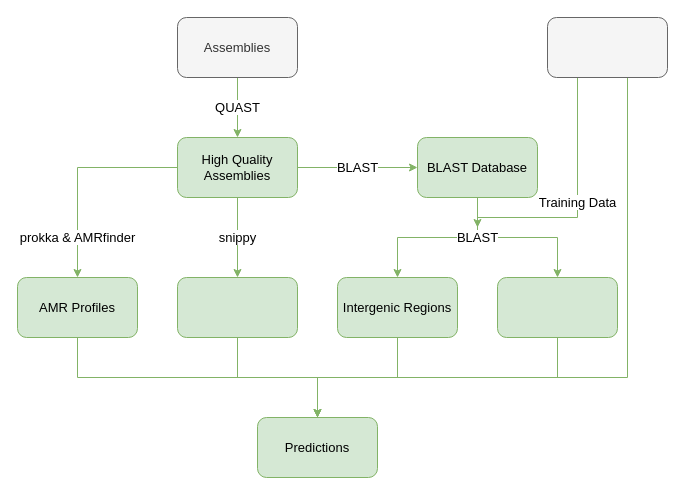
This 685x495 diagram has some shape labels left out. Here are the shapes that lost their labels. From the top down, the centre of each, then its label:
At (607,47): "Models".
At (237,307): "SNPs".
At (557,307): "Protein Variants".
